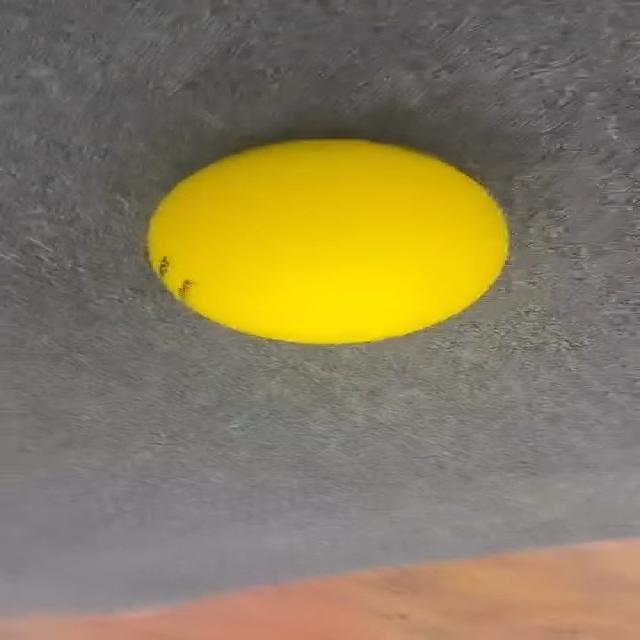Fuels: (149, 139, 505, 342)
